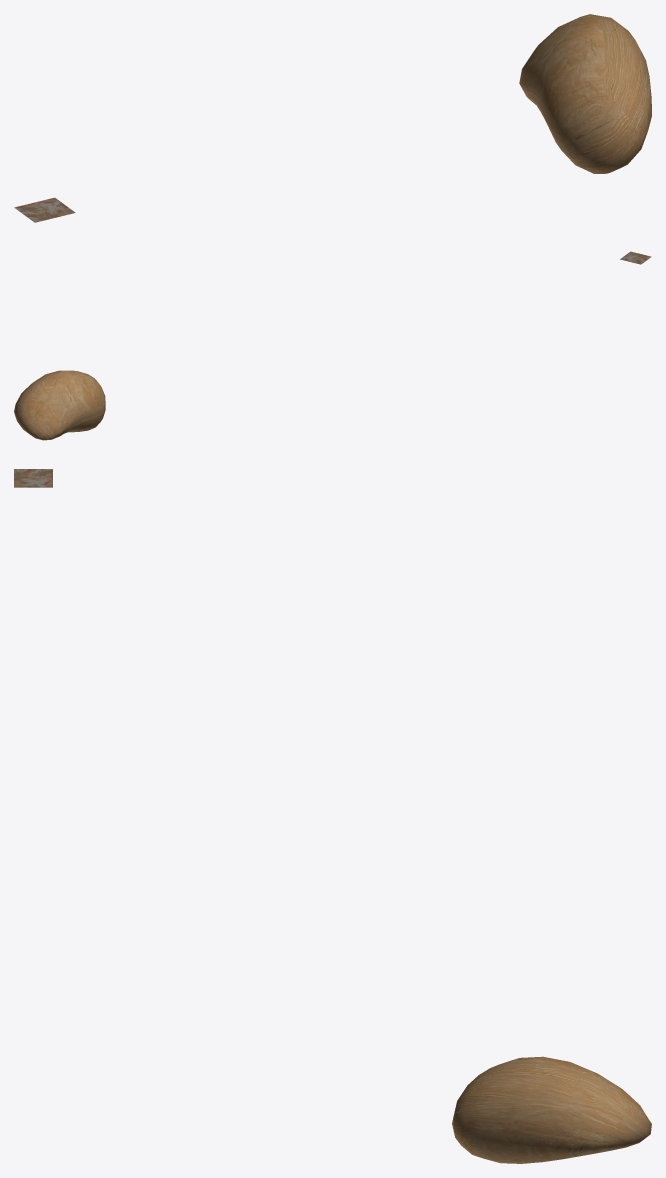
The model's file is rock_4.obj.
3 renders of one model, top to bottom at view 1: azimuth 30°, elevation 25°; view 2: azimuth 150°, elevation 25°; view 3: azimuth 270°, elevation 25°, orthographic. The views are drawn at different scales.
Visible parts, largest first — view 1: rock3, light_source_pillar1; view 2: rock3; view 3: rock3.
Part boxes in pixels (x1,y1,x2,y2): rock3: (519, 14, 651, 173); light_source_pillar1: (14, 197, 75, 222); rock3: (14, 370, 105, 440); rock3: (452, 1056, 651, 1163).
Size of the model in its own units: 33.45 by 11.95 by 21.88.
Materials: 2 (2 with a texture image).
